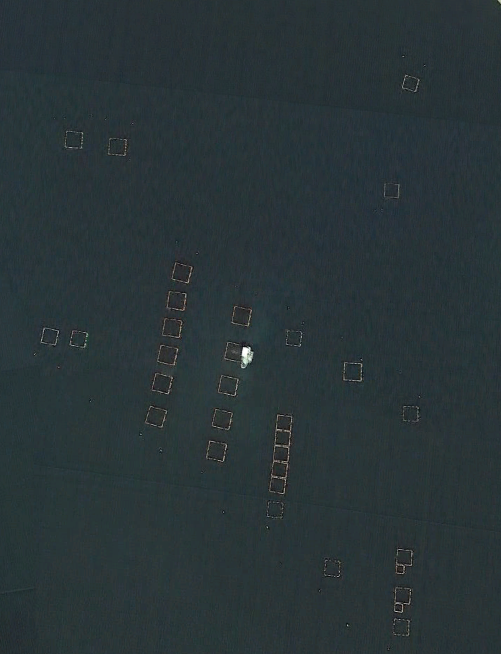ship: (240, 342, 255, 373)
square: (195, 435, 234, 467), (144, 400, 172, 436), (144, 367, 175, 398), (213, 404, 241, 438), (101, 135, 134, 163), (154, 313, 186, 341), (169, 258, 199, 287), (150, 340, 180, 369), (55, 128, 90, 152), (399, 398, 426, 429), (161, 288, 194, 313), (216, 372, 244, 400), (338, 357, 367, 384), (33, 321, 60, 349), (281, 323, 309, 350), (230, 298, 256, 327), (266, 426, 296, 451), (221, 336, 246, 365), (270, 411, 300, 435), (267, 454, 293, 481), (391, 583, 416, 608), (64, 327, 90, 351), (319, 557, 345, 581), (267, 439, 292, 463), (262, 497, 286, 522), (390, 615, 415, 638), (382, 176, 405, 200), (395, 543, 417, 568), (266, 471, 288, 495), (400, 71, 423, 92)
